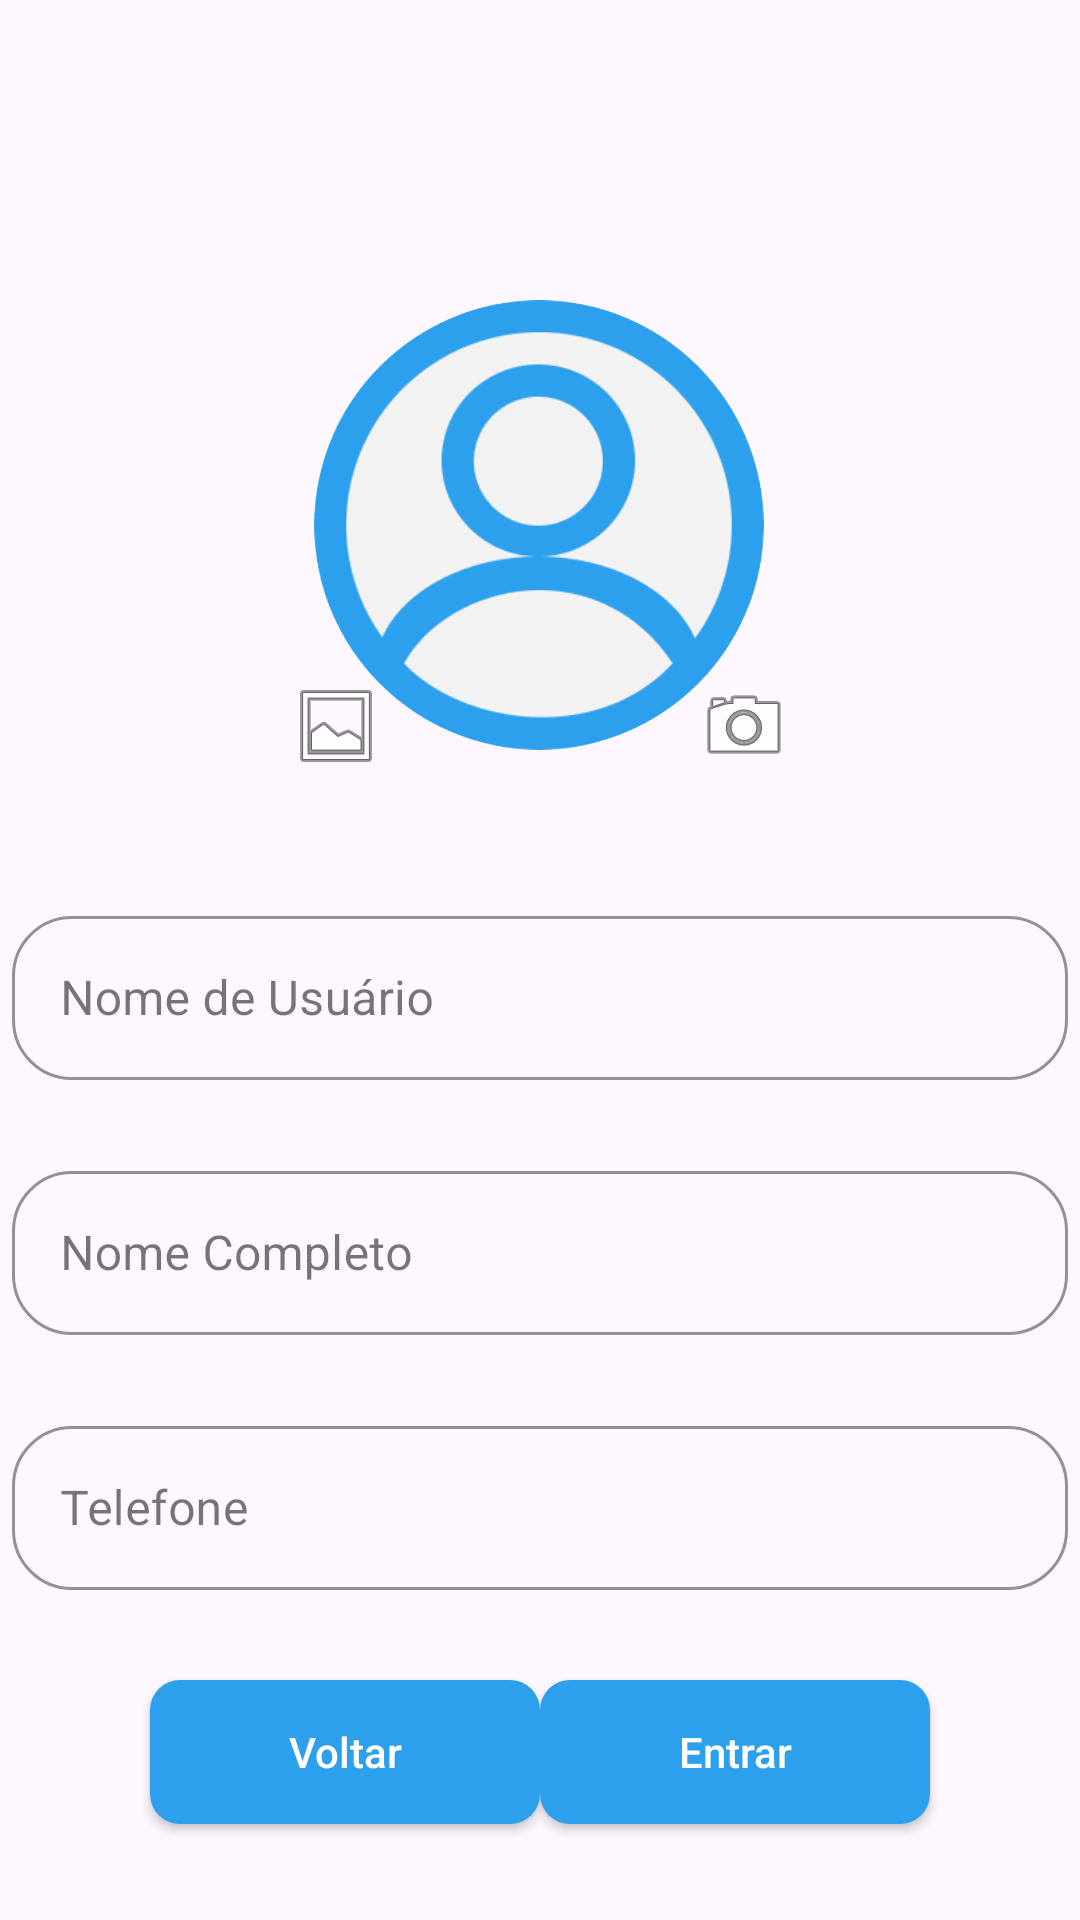

Locate icon controls on the screen. Image size 1080 x 1920, boxes as (x1, y1, x2, y2).
gallery: (300, 690, 372, 762)
